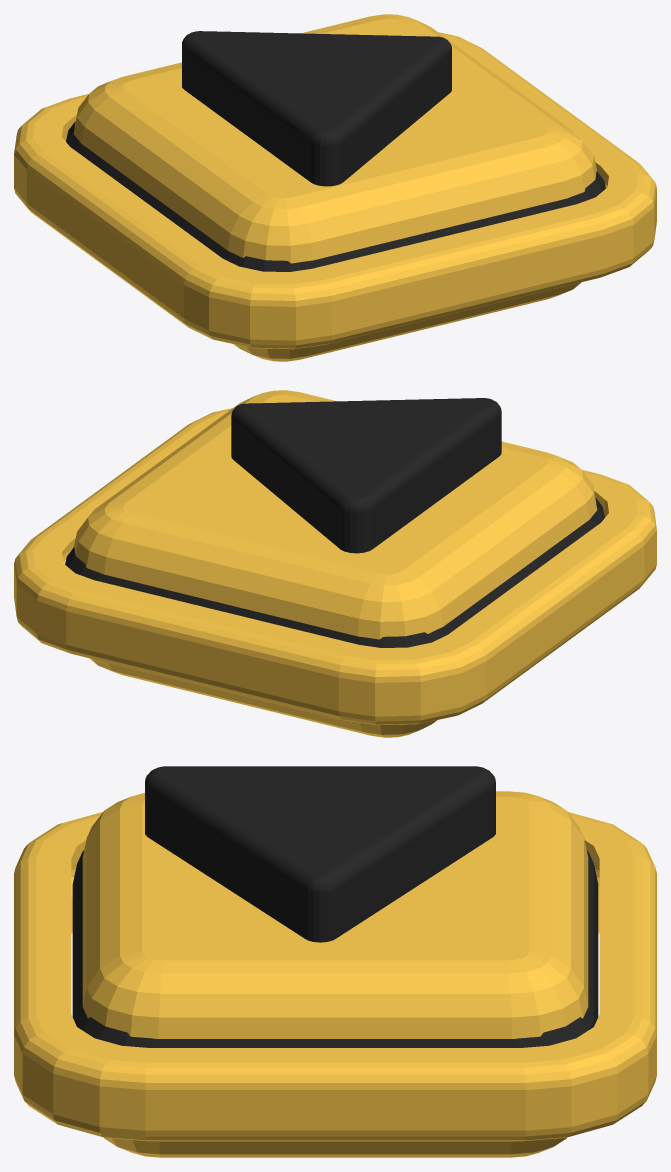
Rendered from Button_Play.fbx.
3 views of the same model, one above another, from view 1: azimuth 30°, elevation 25°; view 2: azimuth 150°, elevation 25°; view 3: azimuth 270°, elevation 25° (orthographic). The views are drawn at different scales.
Parts seen in each view (by area): view 1: Cube, Cube_12, Cube_1, Cube_10; view 2: Cube, Cube_12, Cube_1, Cube_10; view 3: Cube, Cube_12, Cube_1, Cube_10.
Boxes of the visible parts, bbox=[...] form: Cube: bbox=[73, 14, 596, 361]; Cube_12: bbox=[14, 32, 656, 349]; Cube_1: bbox=[182, 31, 451, 186]; Cube_10: bbox=[66, 121, 605, 271]; Cube: bbox=[74, 390, 597, 737]; Cube_12: bbox=[14, 408, 656, 725]; Cube_1: bbox=[231, 398, 501, 553]; Cube_10: bbox=[65, 497, 604, 647]; Cube: bbox=[82, 791, 588, 1157]; Cube_12: bbox=[14, 812, 656, 1141]; Cube_1: bbox=[145, 766, 495, 942]; Cube_10: bbox=[72, 850, 598, 1047].
Bounding box in the file's own units: 254 × 111 × 254.
